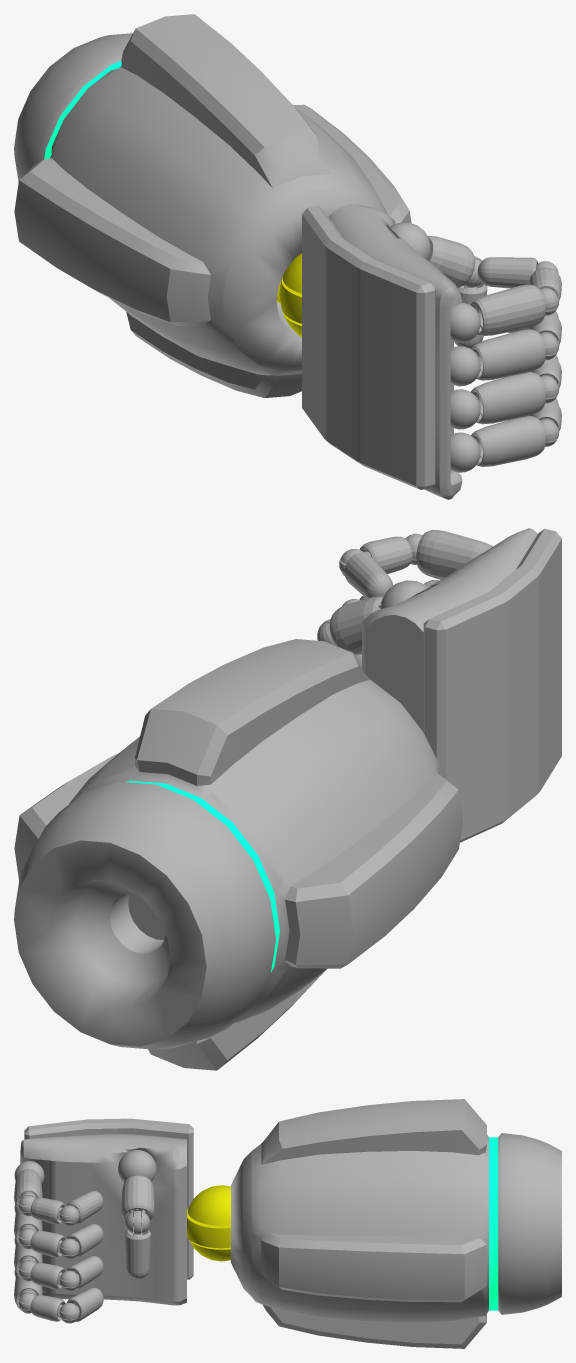
The model's file is migi_ude.fbx.
3 renders of one model, top to bottom at view 1: azimuth 30°, elevation 25°; view 2: azimuth 150°, elevation 25°; view 3: azimuth 270°, elevation 25°, orthographic. The views are drawn at different scales.
Parts seen in each view (by area): view 1: silver:ryouude2:pasted__pasted__pasted__pasted__pasted__pCyl; view 2: silver:ryouude2:pasted__pasted__pasted__pasted__pasted__pCyl; view 3: silver:ryouude2:pasted__pasted__pasted__pasted__pasted__pCyl.
Part boxes in pixels (x1,y1,x2,y2): silver:ryouude2:pasted__pasted__pasted__pasted__pasted__pCyl: (14, 14, 561, 499); silver:ryouude2:pasted__pasted__pasted__pasted__pasted__pCyl: (14, 528, 561, 1070); silver:ryouude2:pasted__pasted__pasted__pasted__pasted__pCyl: (14, 1099, 561, 1348).
Bounding box in the file's own units: 11.57 × 11.63 × 24.5.
